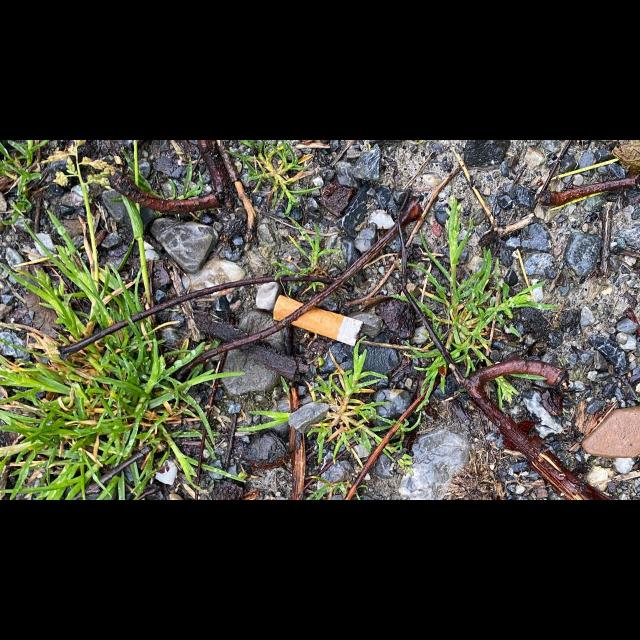cigarette: (273, 294, 364, 347)
